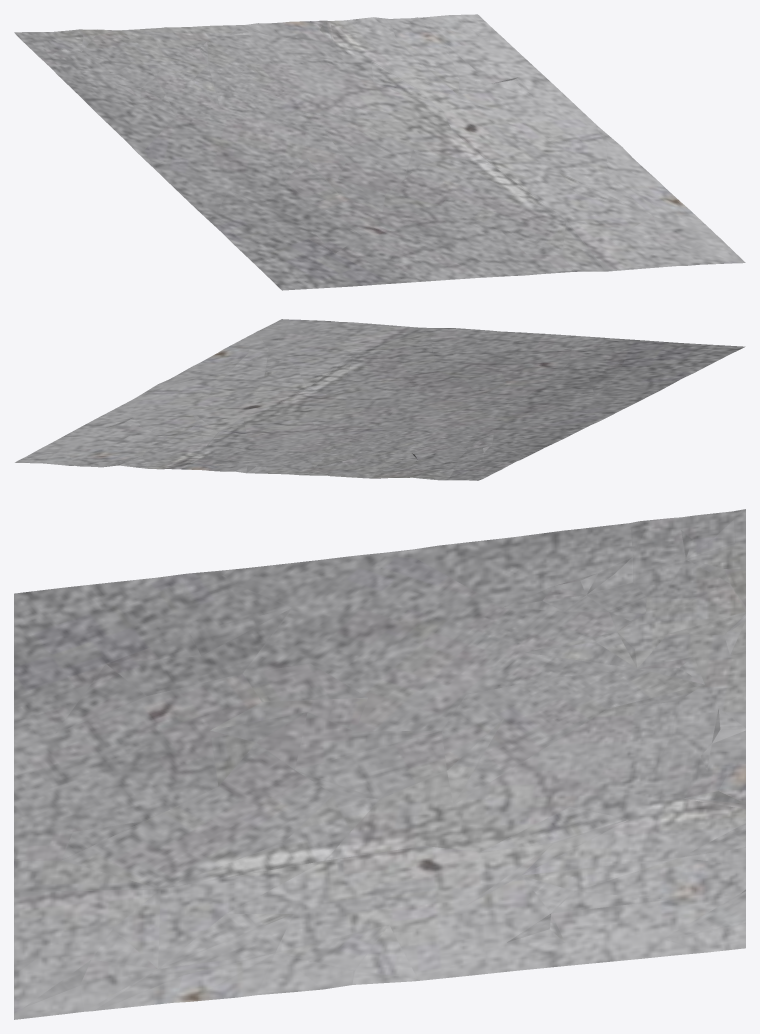
3 views of the same model, one above another, from view 1: azimuth 30°, elevation 25°; view 2: azimuth 150°, elevation 25°; view 3: azimuth 270°, elevation 25° (orthographic). The views are drawn at different scales.
Bounding box in the file's own units: 3.35 × 1.02 × 3.35.
Materials: 3 (3 with a texture image).
